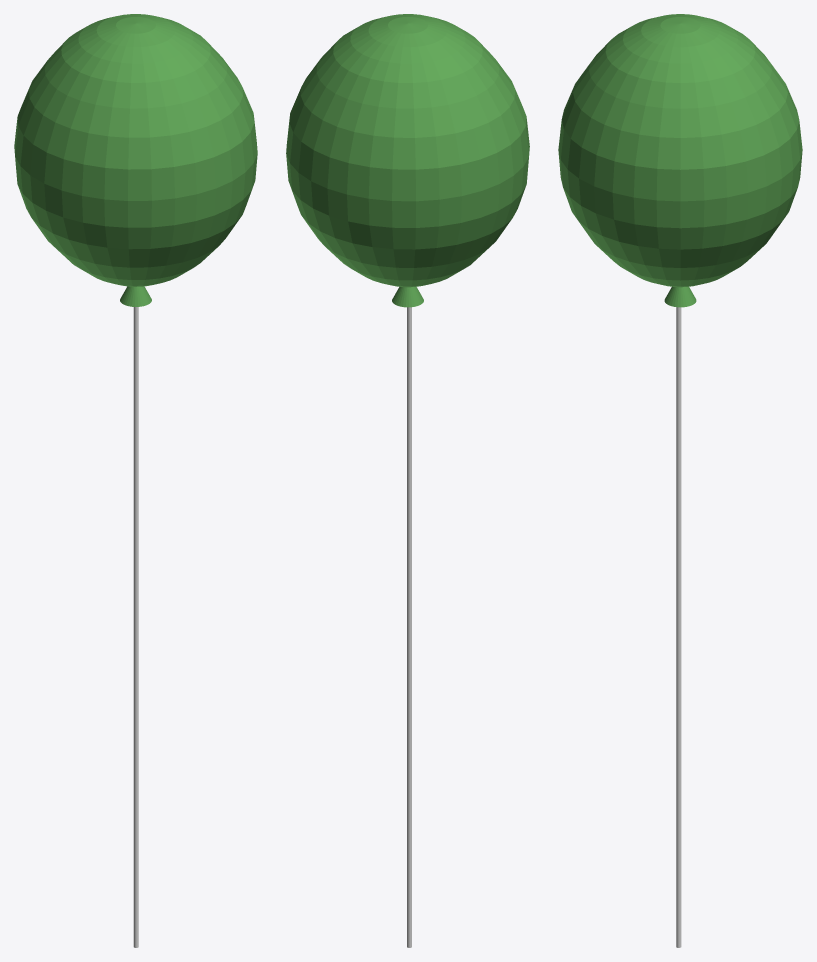
File: ballonGroen.dae
The picture shows the model from 3 angles, left to right: view 1: azimuth 30°, elevation 25°; view 2: azimuth 150°, elevation 25°; view 3: azimuth 270°, elevation 25°; orthographic projection.
Visible parts, largest first — view 1: Sphere, Cylinder, Cone; view 2: Sphere, Cylinder, Cone; view 3: Sphere, Cylinder, Cone.
Boxes of the visible parts, x1=… form: Sphere: x1=14, y1=14, x2=257, y2=286; Cylinder: x1=133, y1=307, x2=138, y2=947; Cone: x1=120, y1=286, x2=151, y2=306; Sphere: x1=286, y1=14, x2=529, y2=287; Cylinder: x1=407, y1=307, x2=411, y2=947; Cone: x1=392, y1=286, x2=423, y2=307; Sphere: x1=558, y1=14, x2=802, y2=287; Cylinder: x1=676, y1=307, x2=681, y2=947; Cone: x1=664, y1=286, x2=696, y2=307.
Bounding box in the file's own units: 2 × 2 × 8.35.
